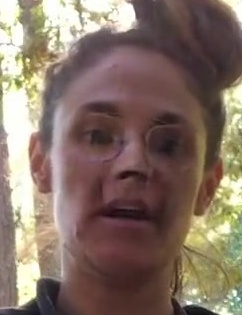n_f: (110, 125, 155, 185)
